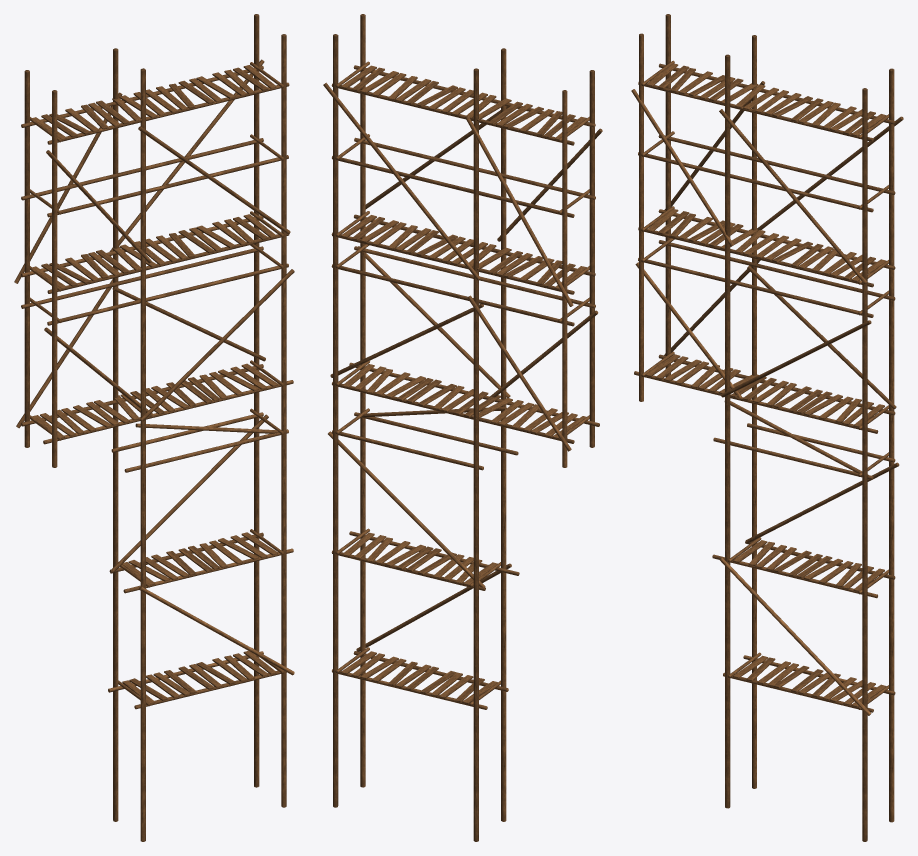
Rendered from SM_Scaffolding_03.fbx.
3 views of the same model, side by side, from view 1: azimuth 30°, elevation 25°; view 2: azimuth 150°, elevation 25°; view 3: azimuth 330°, elevation 25° (orthographic). The views are drawn at different scales.
Visible parts, largest first — view 1: SM_Scaffolding_03_LOD0; view 2: SM_Scaffolding_03_LOD0; view 3: SM_Scaffolding_03_LOD0.
Boxes of the visible parts, x1,y1,x2,y2 form: SM_Scaffolding_03_LOD0: [14, 14, 294, 841]; SM_Scaffolding_03_LOD0: [323, 14, 602, 841]; SM_Scaffolding_03_LOD0: [631, 14, 903, 841].
Size of the model in its own units: 527 by 123 by 1551.
1 material, 1 textured.
